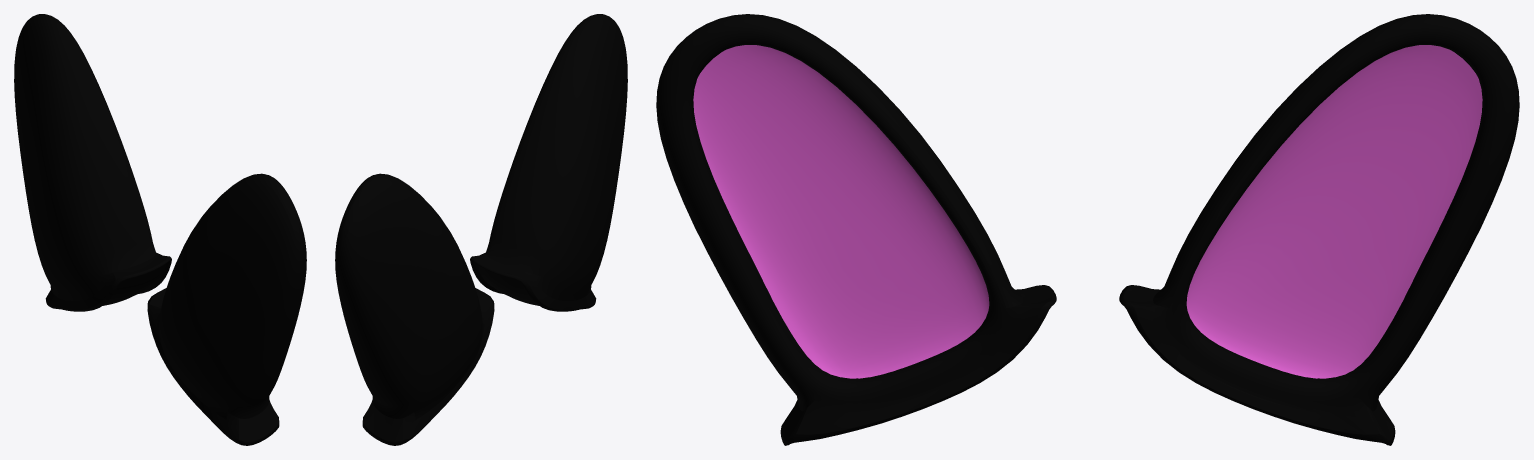
File: catears.fbx
The picture shows the model from 3 angles, left to right: view 1: azimuth 30°, elevation 25°; view 2: azimuth 150°, elevation 25°; view 3: azimuth 270°, elevation 25°; orthographic projection. The views are drawn at different scales.
Parts seen in each view (by area): view 1: Plane, Plane.003; view 2: Plane.003, Plane; view 3: Plane.001, Plane.002, Plane, Plane.003.
Boxes of the visible parts, x1=… form: Plane: x1=147, y1=173, x2=306, y2=445; Plane.003: x1=14, y1=14, x2=171, y2=311; Plane.003: x1=335, y1=173, x2=494, y2=445; Plane: x1=470, y1=14, x2=627, y2=311; Plane.001: x1=693, y1=45, x2=989, y2=378; Plane.002: x1=1186, y1=45, x2=1482, y2=378; Plane: x1=656, y1=14, x2=1056, y2=445; Plane.003: x1=1119, y1=14, x2=1519, y2=445.
Bounding box in the file's own units: 33.84 × 124 × 228.
